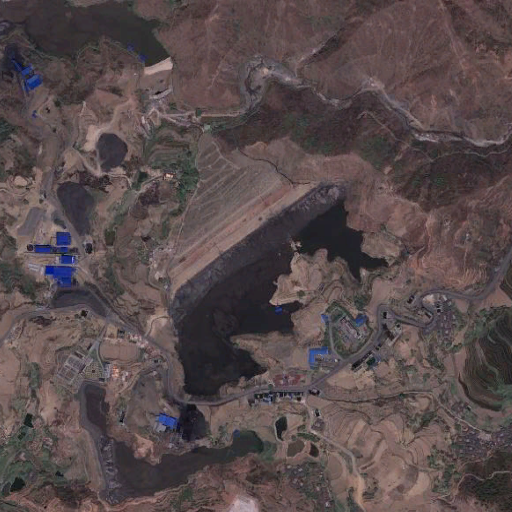tp: (161, 136, 394, 402)
